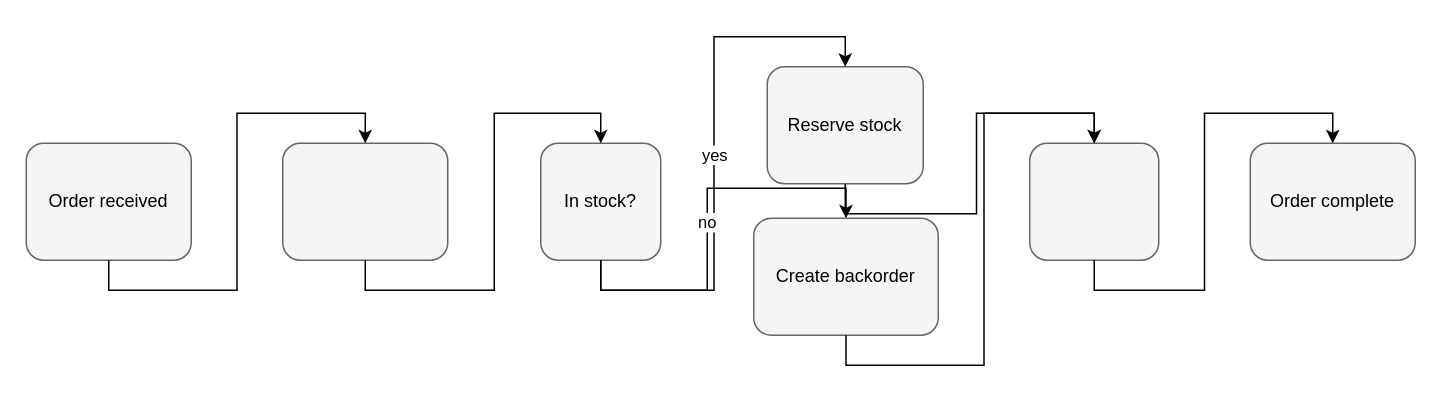
This 1442x404 diagram has some shape labels left out. The centre of each missing label's shape, as x and y in pixels:
Ship order: pixel 1093 201
Validate order: pixel 364 201
